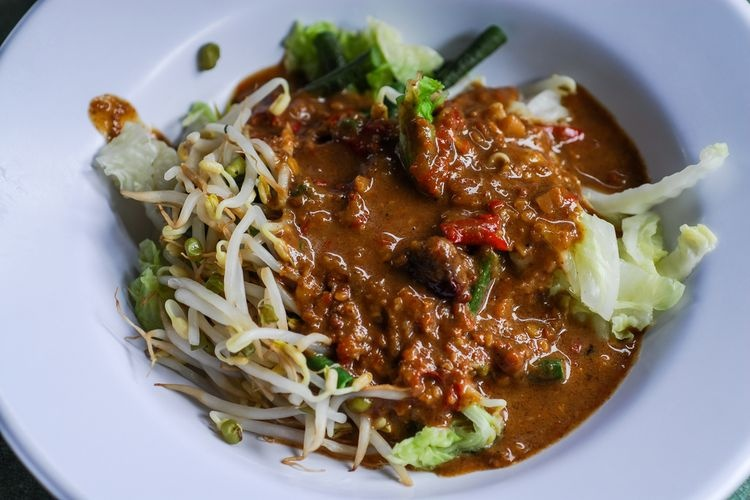pecel: (89, 45, 704, 473)
